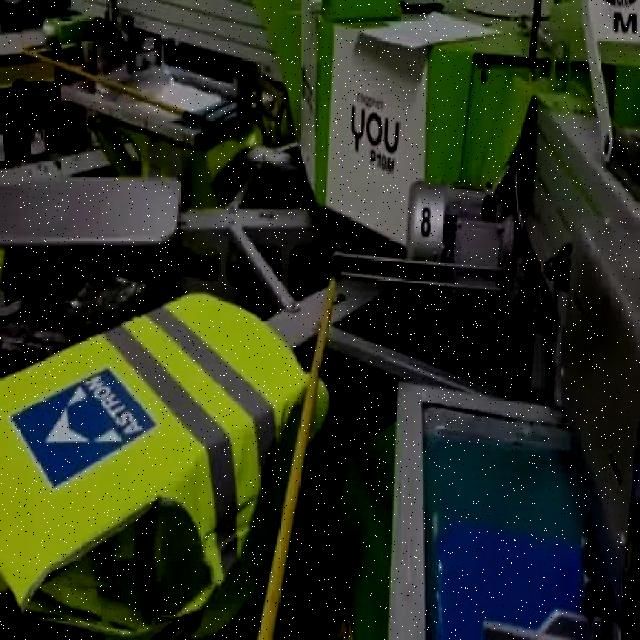Mask: (1, 290, 332, 638)
